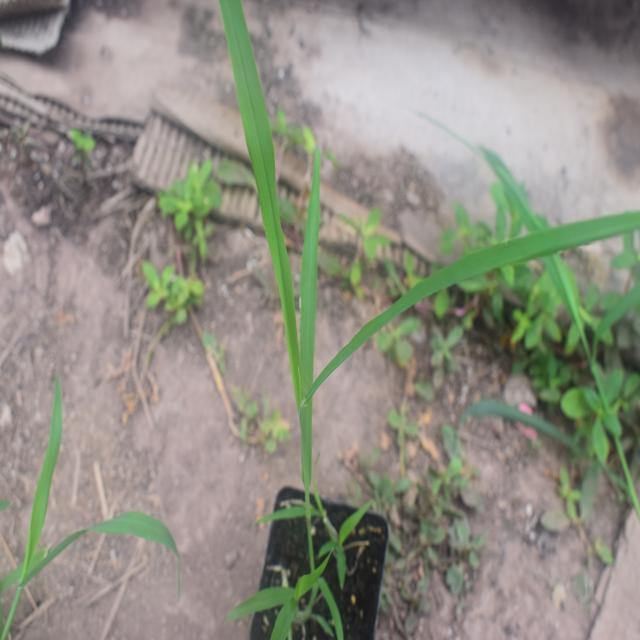crabgrass: (221, 23, 637, 380)
